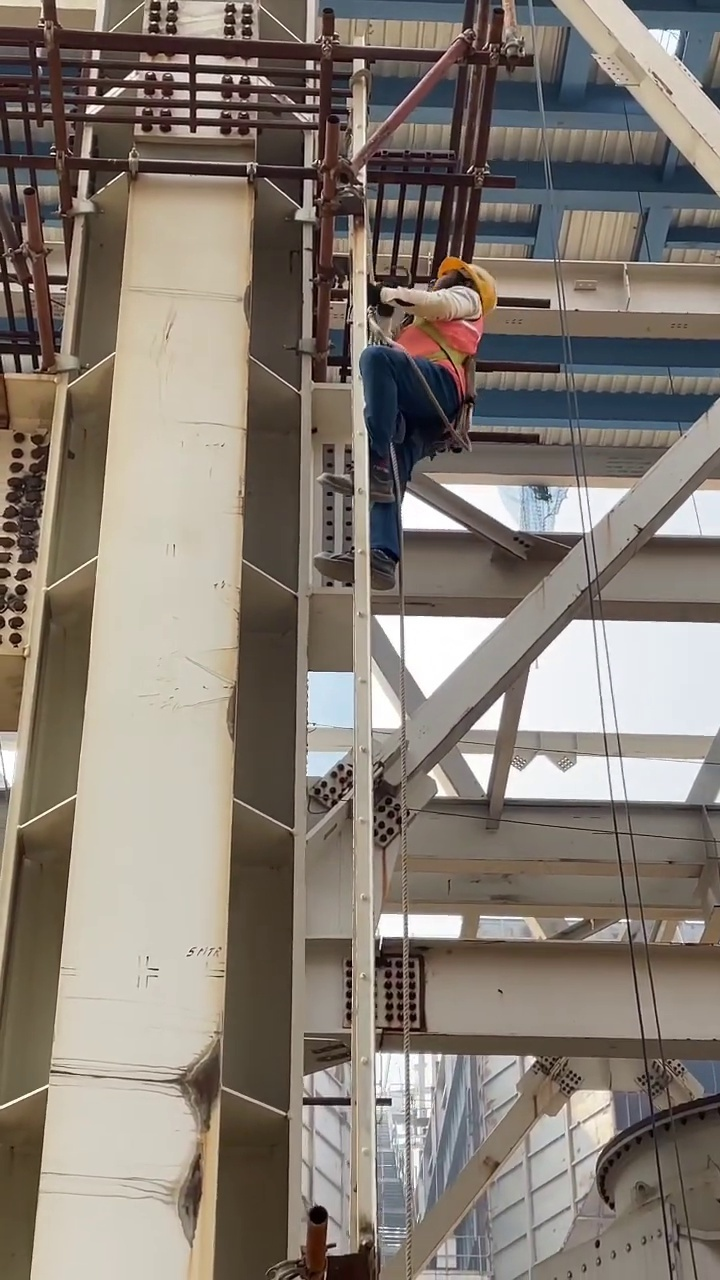Helmet: (431, 258, 496, 309)
Person: (309, 257, 496, 594)
Safety_Harness: (398, 318, 481, 452)
Safety_shoes: (309, 547, 395, 593), (323, 452, 396, 505)
